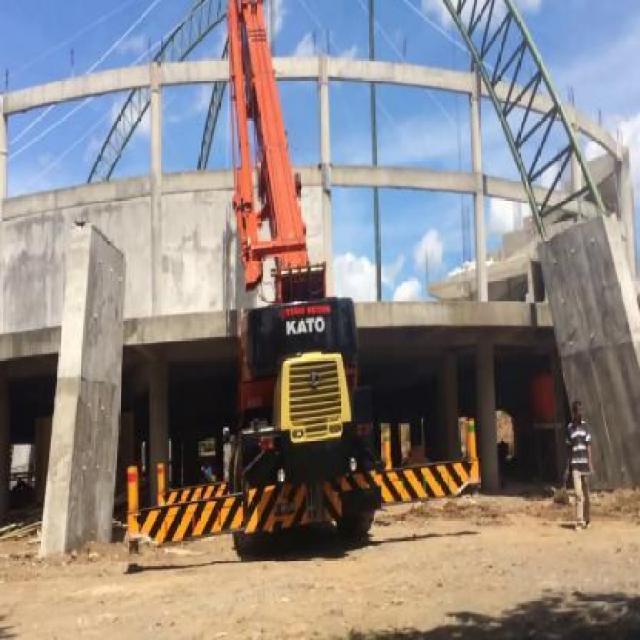Mobile Crane: (120, 0, 482, 566)
